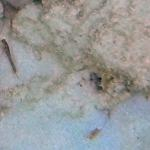dead: (1, 12, 142, 131)
